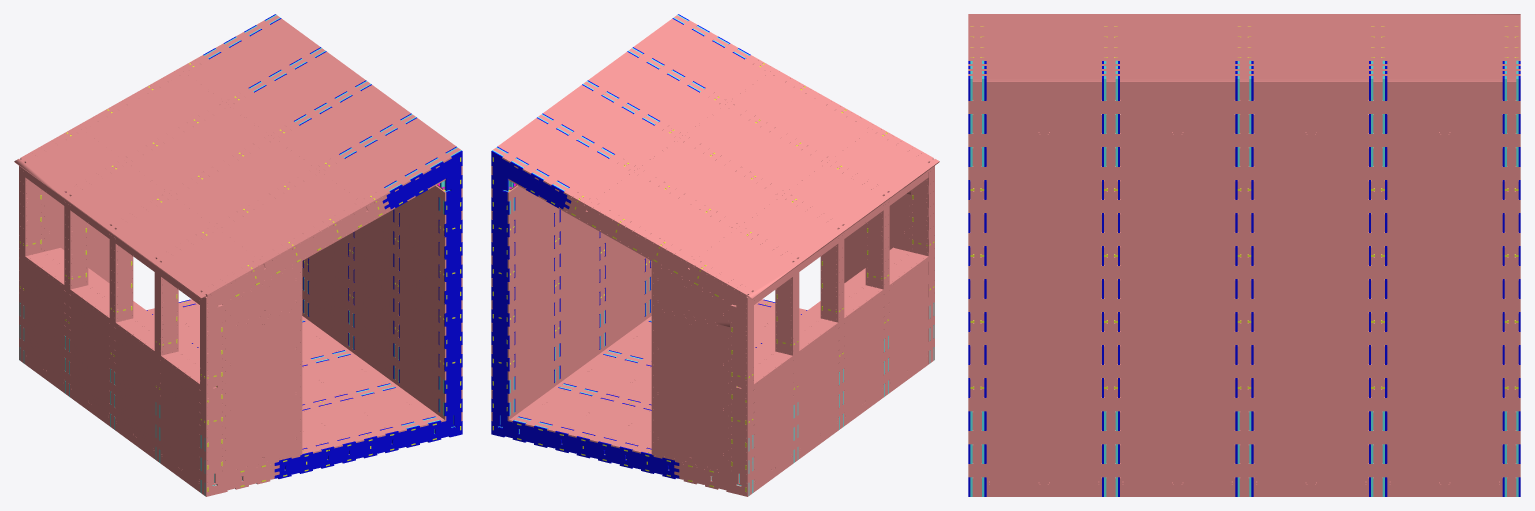
File: WIKIHOUSE-PAVILION.glb
3 views of the same model, side by side, from view 1: azimuth 30°, elevation 25°; view 2: azimuth 150°, elevation 25°; view 3: azimuth 270°, elevation 25° (orthographic). The views are drawn at different scales.
Visible parts, largest first — view 1: mesh_540_ROOT__Component_147560__Component_142193_Layer0, mesh_15_ROOT__Component_231982_Layer0, mesh_394_ROOT__Component_156007_Layer0, mesh_488_ROOT__Component_156007_Layer0, mesh_483_ROOT__Component_153535_Layer0, mesh_486_ROOT__Component_153535_Layer0, mesh_495_ROOT__Component_159233_Layer0, mesh_200_ROOT__Component_211686_Layer0, mesh_489_ROOT__Component_159233_Layer0, mesh_482_ROOT__Component_150137_Layer0, mesh_485_ROOT__Component_150137_Layer0, mesh_7_ROOT__Component_237318_Layer0 (+39 smaller); view 2: mesh_590_ROOT__Component_187248__Component_138795_Layer0, mesh_383_ROOT__Component_231982_Layer0, mesh_488_ROOT__Component_156007_Layer0, mesh_394_ROOT__Component_156007_Layer0, mesh_486_ROOT__Component_153535_Layer0, mesh_483_ROOT__Component_153535_Layer0, mesh_489_ROOT__Component_159233_Layer0, mesh_493_ROOT__Component_211686_Layer0, mesh_495_ROOT__Component_159233_Layer0, mesh_485_ROOT__Component_150137_Layer0, mesh_482_ROOT__Component_150137_Layer0, mesh_298_ROOT__Component_242234_Layer0 (+39 smaller); view 3: mesh_381_ROOT__Component_221511_Layer0, mesh_21_ROOT__Component_221511_Layer0, mesh_185_ROOT__Component_192681_Layer0, mesh_490_ROOT__Component_192681_Layer0, mesh_20_ROOT__Component_216164_Layer0, mesh_384_ROOT__Component_216164_Layer0, mesh_186_ROOT__Component_188127_Layer0, mesh_491_ROOT__Component_188127_Layer0, mesh_394_ROOT__Component_156007_Layer0, mesh_488_ROOT__Component_156007_Layer0, mesh_489_ROOT__Component_159233_Layer0, mesh_495_ROOT__Component_159233_Layer0 (+8 smaller).
Boxes of the visible parts, bbox=[...] form: mesh_540_ROOT__Component_147560__Component_142193_Layer0: bbox=[224, 308, 302, 473]; mesh_15_ROOT__Component_231982_Layer0: bbox=[396, 251, 446, 419]; mesh_394_ROOT__Component_156007_Layer0: bbox=[214, 170, 364, 263]; mesh_488_ROOT__Component_156007_Layer0: bbox=[76, 69, 225, 161]; mesh_483_ROOT__Component_153535_Layer0: bbox=[169, 137, 316, 227]; mesh_486_ROOT__Component_153535_Layer0: bbox=[124, 104, 270, 194]; mesh_495_ROOT__Component_159233_Layer0: bbox=[317, 115, 460, 206]; mesh_200_ROOT__Component_211686_Layer0: bbox=[351, 227, 396, 384]; mesh_489_ROOT__Component_159233_Layer0: bbox=[178, 15, 323, 104]; mesh_482_ROOT__Component_150137_Layer0: bbox=[271, 82, 413, 170]; mesh_485_ROOT__Component_150137_Layer0: bbox=[226, 49, 368, 137]; mesh_7_ROOT__Component_237318_Layer0: bbox=[311, 384, 446, 441]; mesh_590_ROOT__Component_187248__Component_138795_Layer0: bbox=[651, 308, 729, 473]; mesh_383_ROOT__Component_231982_Layer0: bbox=[507, 251, 557, 419]; mesh_488_ROOT__Component_156007_Layer0: bbox=[589, 170, 739, 263]; mesh_394_ROOT__Component_156007_Layer0: bbox=[728, 69, 877, 161]; mesh_486_ROOT__Component_153535_Layer0: bbox=[637, 137, 784, 227]; mesh_483_ROOT__Component_153535_Layer0: bbox=[683, 104, 829, 194]; mesh_489_ROOT__Component_159233_Layer0: bbox=[493, 115, 636, 206]; mesh_493_ROOT__Component_211686_Layer0: bbox=[557, 227, 602, 384]; mesh_495_ROOT__Component_159233_Layer0: bbox=[630, 15, 775, 104]; mesh_485_ROOT__Component_150137_Layer0: bbox=[540, 82, 682, 170]; mesh_482_ROOT__Component_150137_Layer0: bbox=[585, 49, 727, 137]; mesh_298_ROOT__Component_242234_Layer0: bbox=[507, 384, 642, 441]; mesh_381_ROOT__Component_221511_Layer0: bbox=[1378, 272, 1520, 496]; mesh_21_ROOT__Component_221511_Layer0: bbox=[968, 272, 1110, 496]; mesh_185_ROOT__Component_192681_Layer0: bbox=[1111, 272, 1244, 496]; mesh_490_ROOT__Component_192681_Layer0: bbox=[1244, 272, 1377, 496]; mesh_20_ROOT__Component_216164_Layer0: bbox=[968, 81, 1110, 275]; mesh_384_ROOT__Component_216164_Layer0: bbox=[1378, 81, 1520, 275]; mesh_186_ROOT__Component_188127_Layer0: bbox=[1111, 81, 1244, 275]; mesh_491_ROOT__Component_188127_Layer0: bbox=[1244, 81, 1377, 275]; mesh_394_ROOT__Component_156007_Layer0: bbox=[968, 29, 1110, 54]; mesh_488_ROOT__Component_156007_Layer0: bbox=[1378, 29, 1520, 54]; mesh_489_ROOT__Component_159233_Layer0: bbox=[1378, 54, 1520, 80]; mesh_495_ROOT__Component_159233_Layer0: bbox=[968, 54, 1110, 80].
Bounding box in the file's own units: 3672 × 3800 × 4550.
